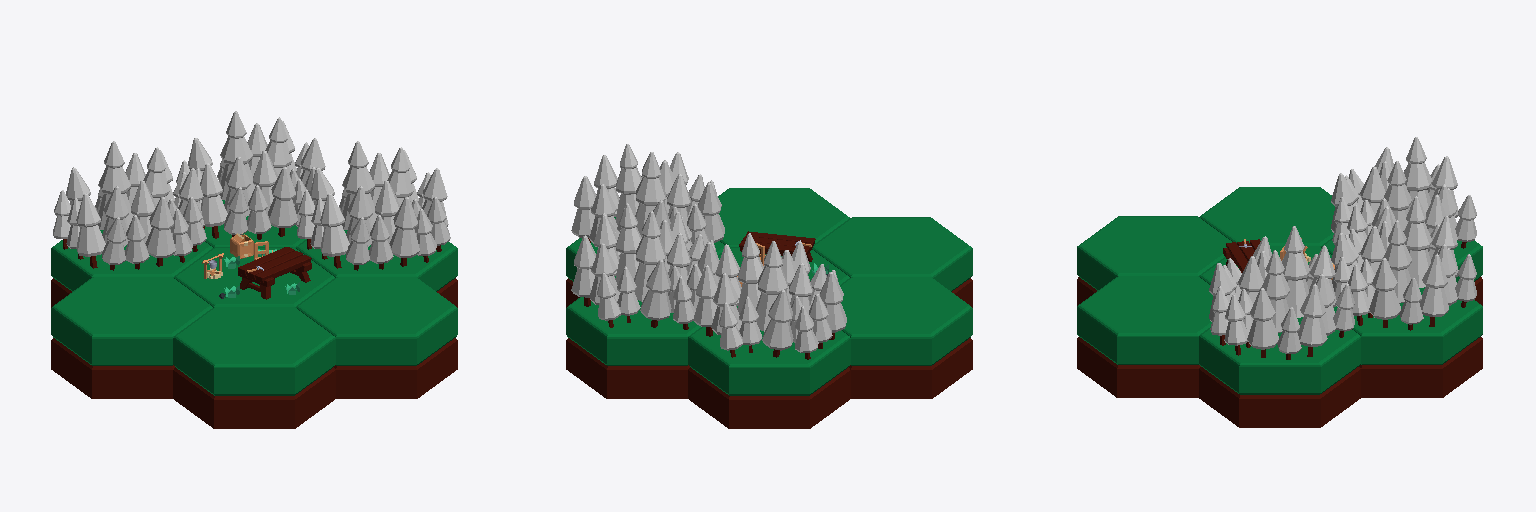
File: simplescene.obj
3 views of the same model, side by side, from view 1: azimuth 30°, elevation 25°; view 2: azimuth 150°, elevation 25°; view 3: azimuth 270°, elevation 25° (orthographic).
Parts seen in each view (by area): view 1: mergedBlocks; view 2: mergedBlocks; view 3: mergedBlocks.
Boxes of the visible parts, box(x1,y1,x2,y2) form: mergedBlocks: box(51, 111, 457, 428); mergedBlocks: box(566, 144, 972, 428); mergedBlocks: box(1077, 137, 1482, 427).
Bounding box in the file's own units: 6.05 × 2.61 × 5.77.